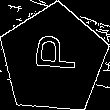P_W: (28, 39, 79, 80)
